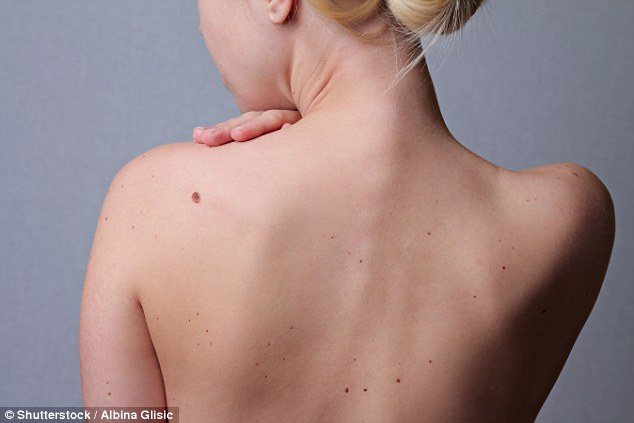mole: (186, 187, 206, 207), (392, 373, 404, 388), (537, 304, 550, 316), (569, 168, 581, 181), (341, 381, 351, 396), (200, 324, 212, 335), (104, 390, 115, 399), (426, 357, 436, 366), (499, 261, 507, 271)
